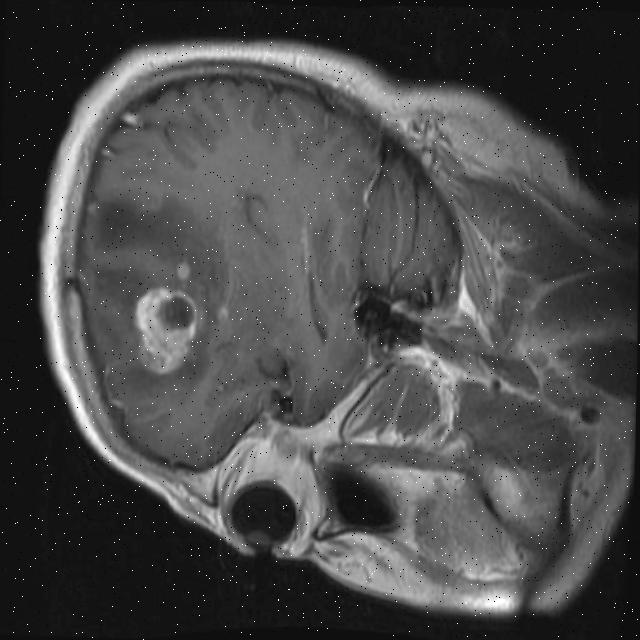Glioma: (129, 285, 199, 374), (175, 258, 191, 280)
